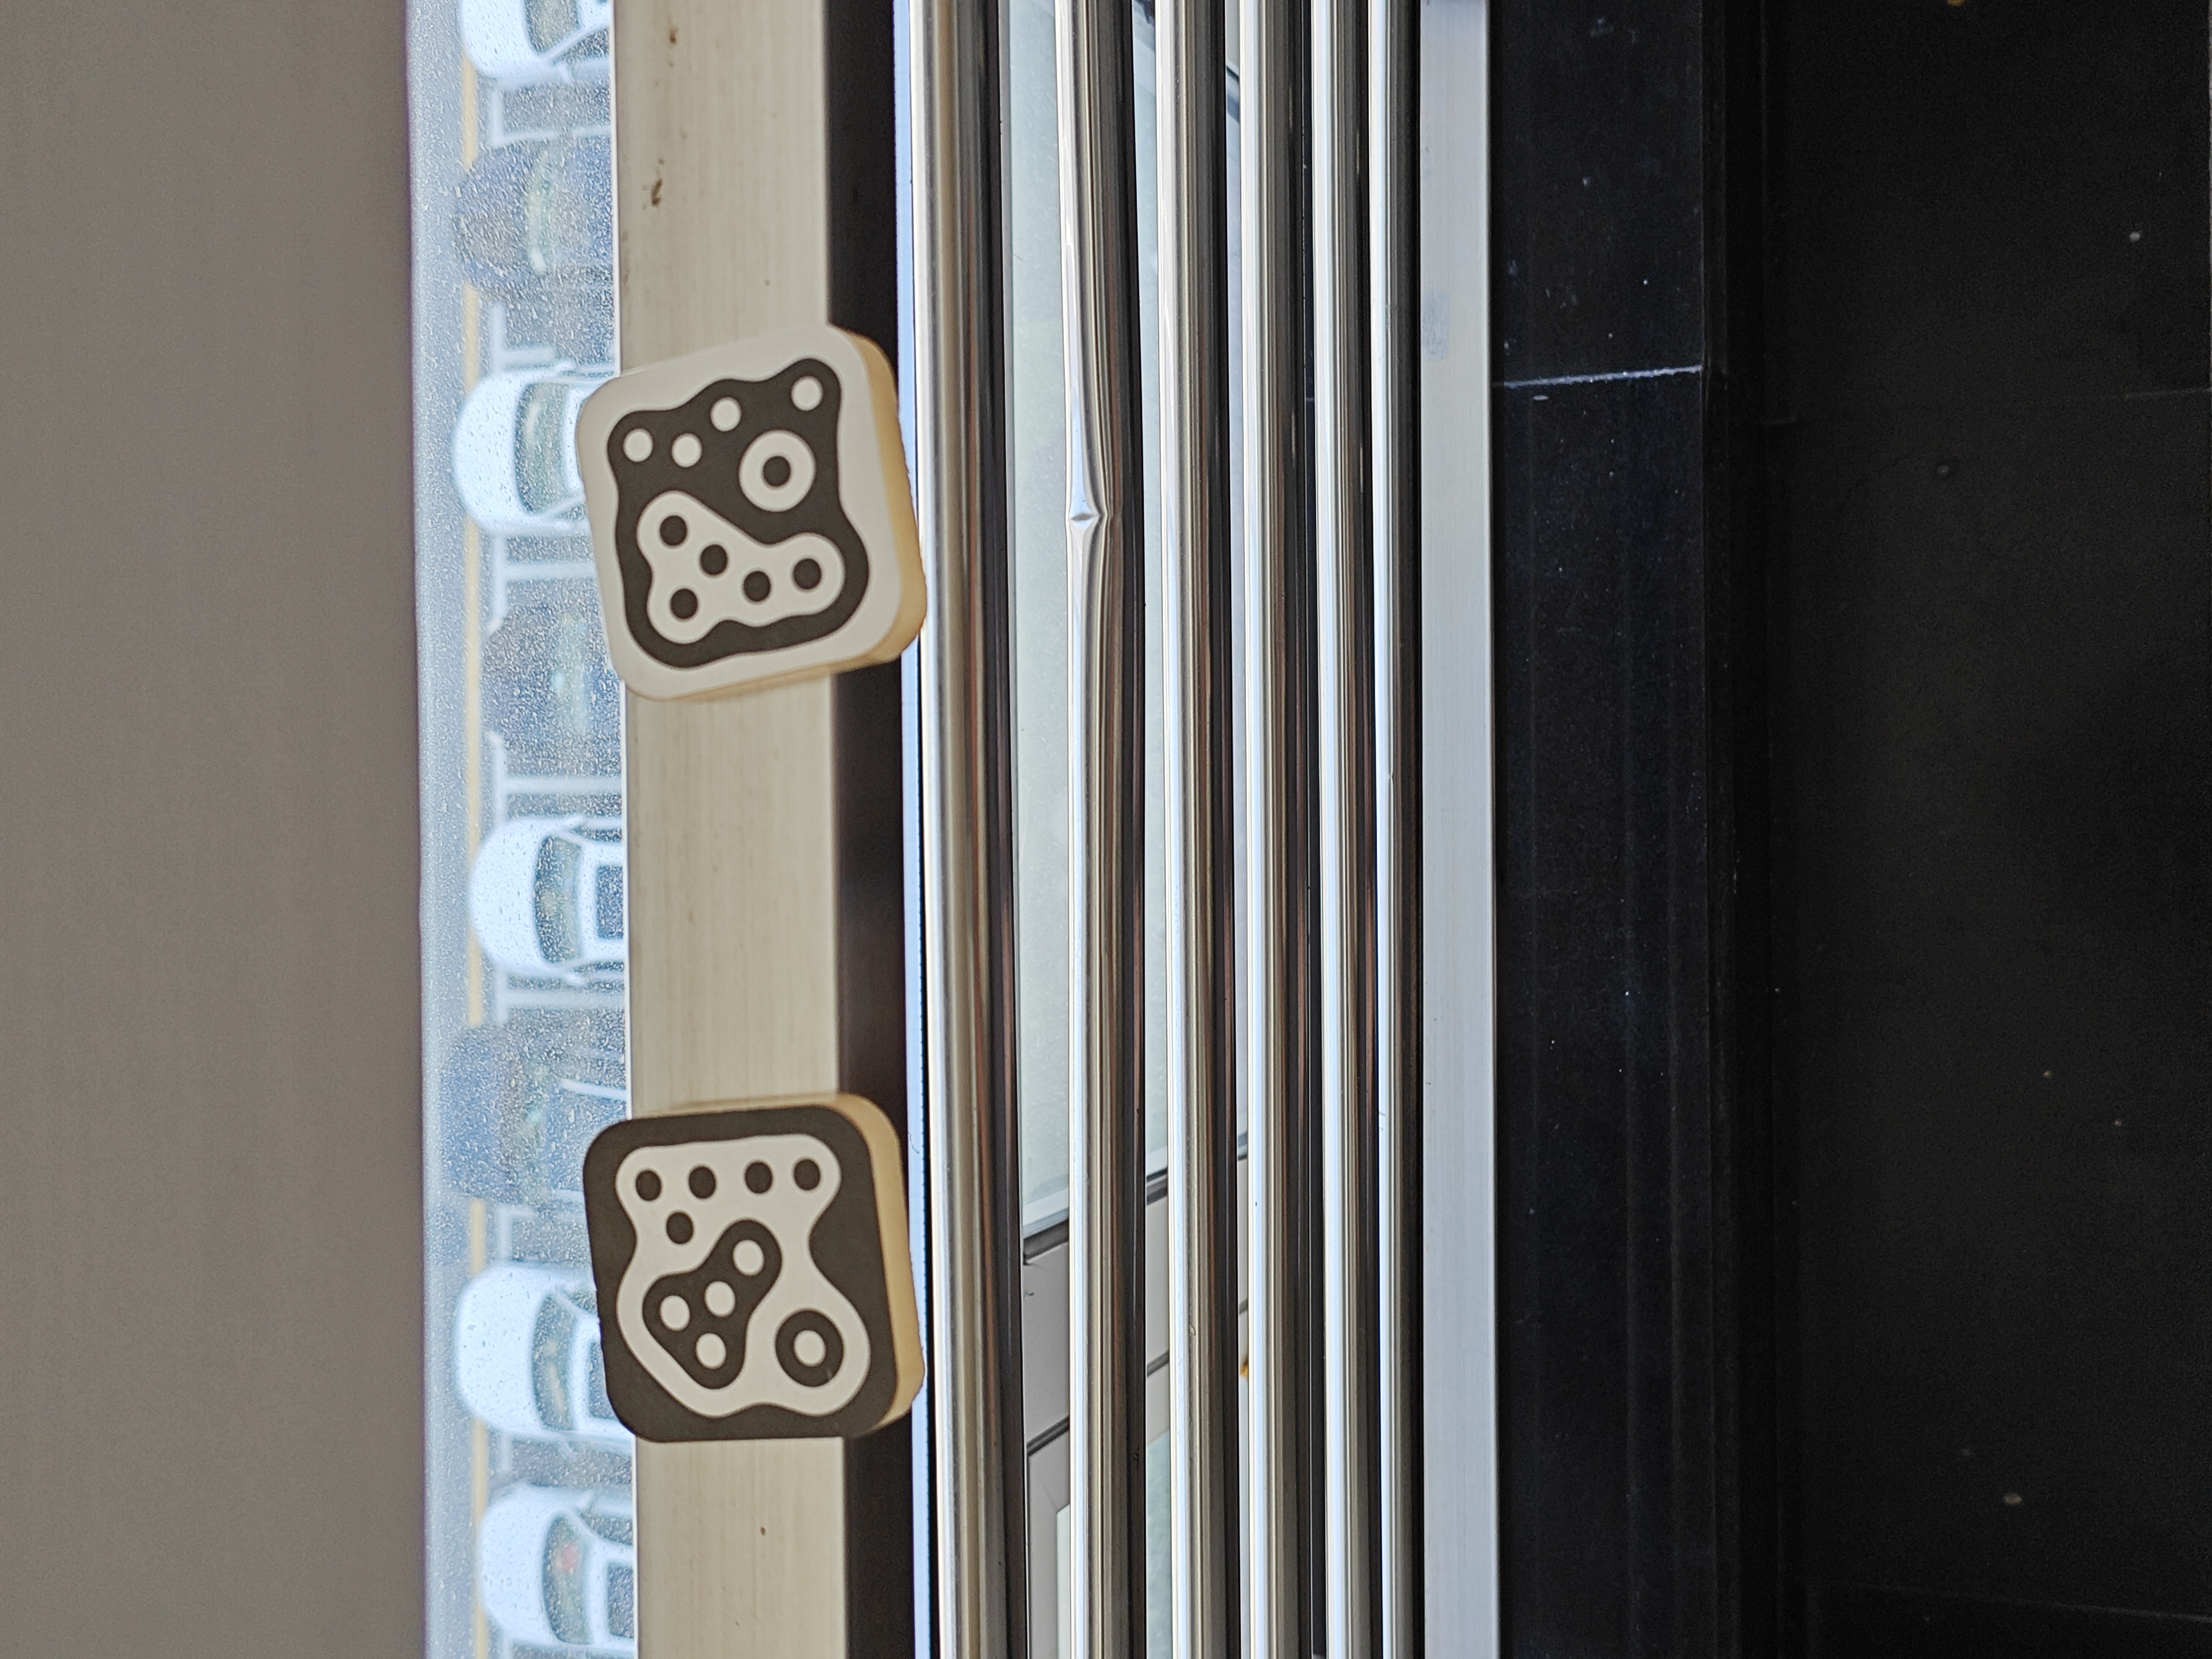mark1: (610, 359, 871, 667)
mark2: (613, 1131, 873, 1417)
